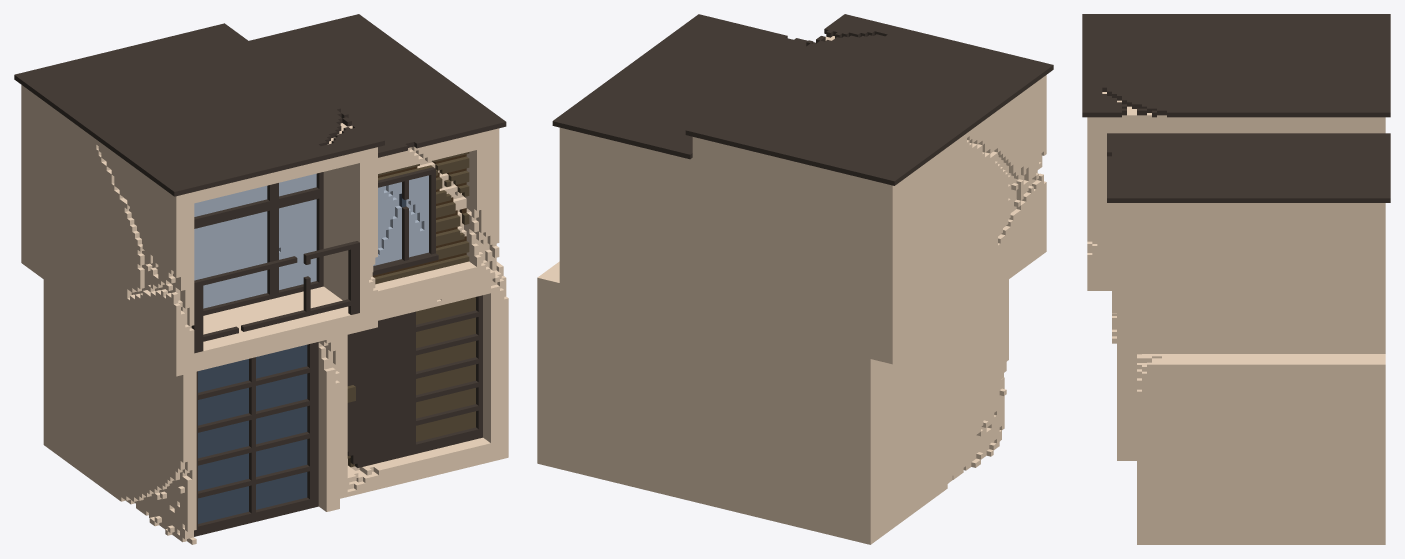
The model's file is Background_A_house_01.FBX.
The picture shows the model from 3 angles, left to right: view 1: azimuth 30°, elevation 25°; view 2: azimuth 150°, elevation 25°; view 3: azimuth 270°, elevation 25°; orthographic projection. The views are drawn at different scales.
Parts seen in each view (by area): view 1: Load_A-30; view 2: Load_A-30; view 3: Load_A-30.
Boxes of the visible parts, box(x1,y1,x2,y2) form: Load_A-30: box(14, 14, 508, 544); Load_A-30: box(537, 14, 1053, 544); Load_A-30: box(1082, 14, 1390, 544).
Bounding box in the file's own units: 8.1 × 8 × 6.2.
1 material, 1 textured.
